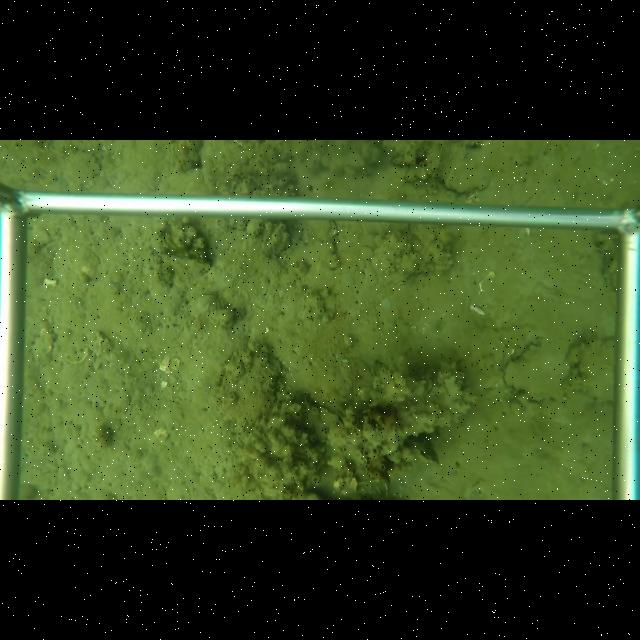Oyster-Closed: (502, 334, 577, 406), (436, 158, 499, 197), (423, 369, 438, 398)
Oyster-Open: (403, 437, 442, 465)
